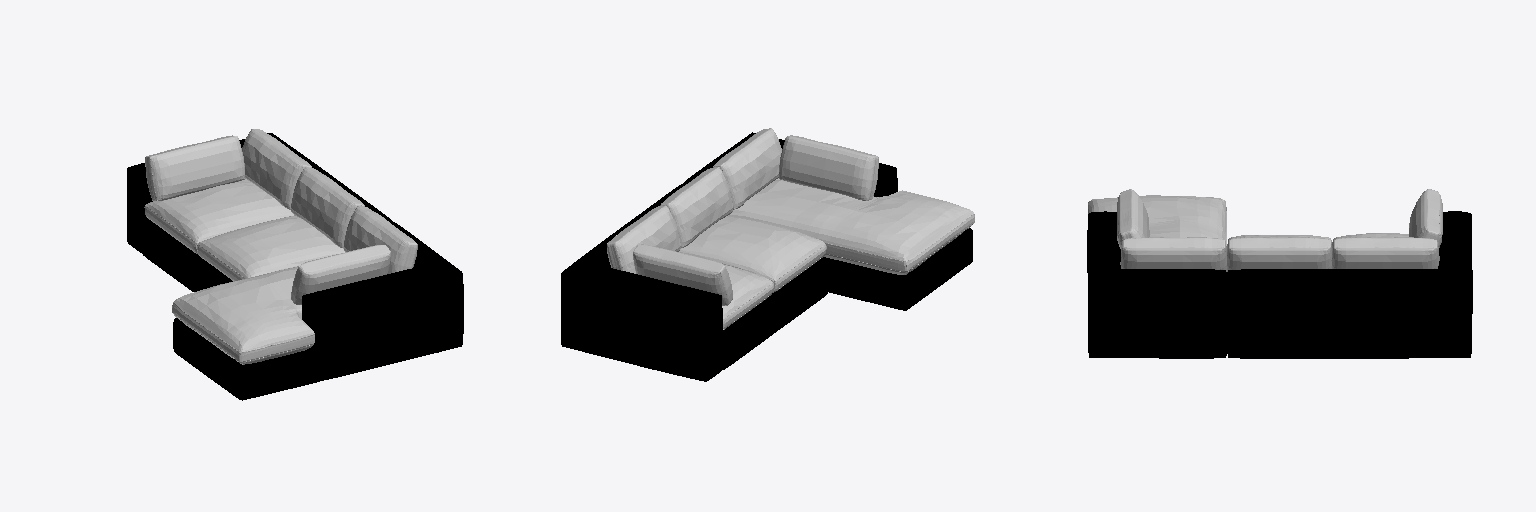
The model's file is sofa.obj.
The picture shows the model from 3 angles: view 1: azimuth 30°, elevation 25°; view 2: azimuth 150°, elevation 25°; view 3: azimuth 270°, elevation 25°; orthographic projection.
Parts seen in each view (by area): view 1: sofa; view 2: sofa; view 3: sofa.
Boxes of the visible parts, x1,y1,x2,y2 form: sofa: [127, 129, 463, 400]; sofa: [561, 128, 974, 381]; sofa: [1087, 189, 1472, 358].
Size of the model in its own units: 1.75 by 0.8 by 2.59.